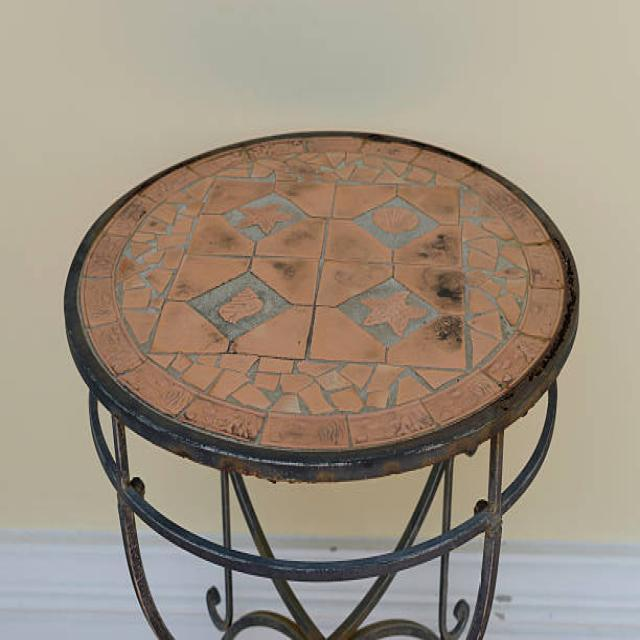table: (62, 128, 580, 637)
